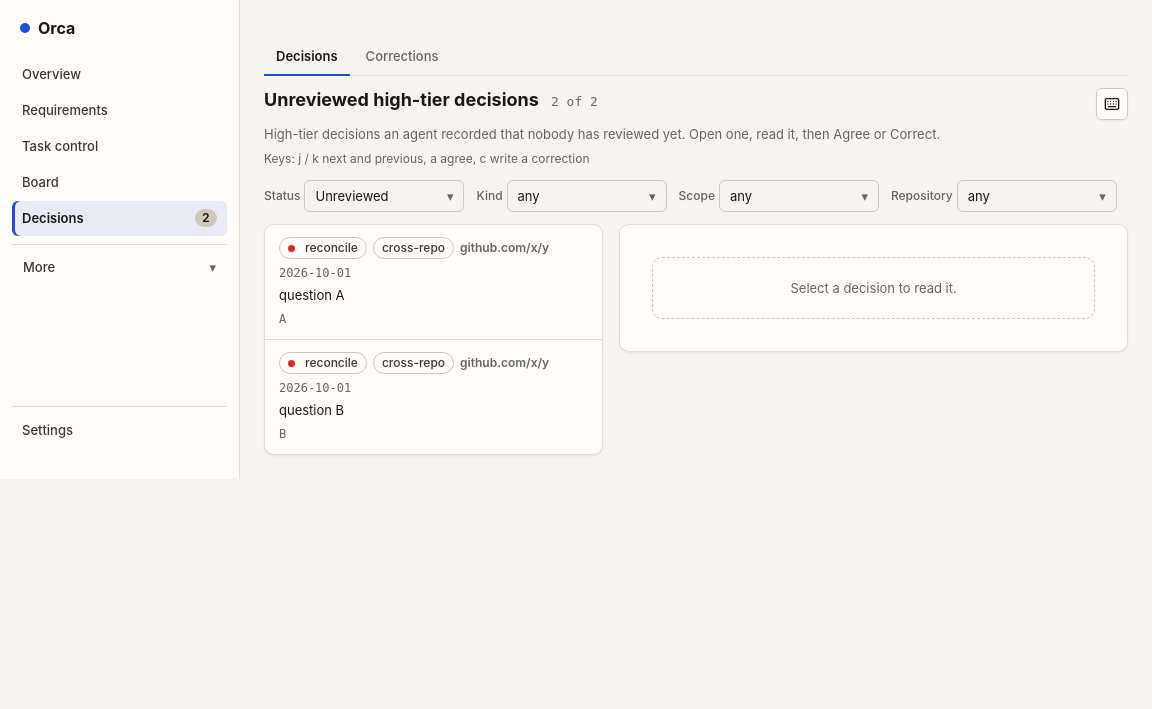
Test: the decision review loop › after a successful Agree, opens the next row once the reviewed one has left the list, and counts it
Step 1. Click the button "reconcile cross-repo github.com/x/y 2026-10-01 question A A" → (323, 248), box x1=265 y1=225 x2=602 y2=339
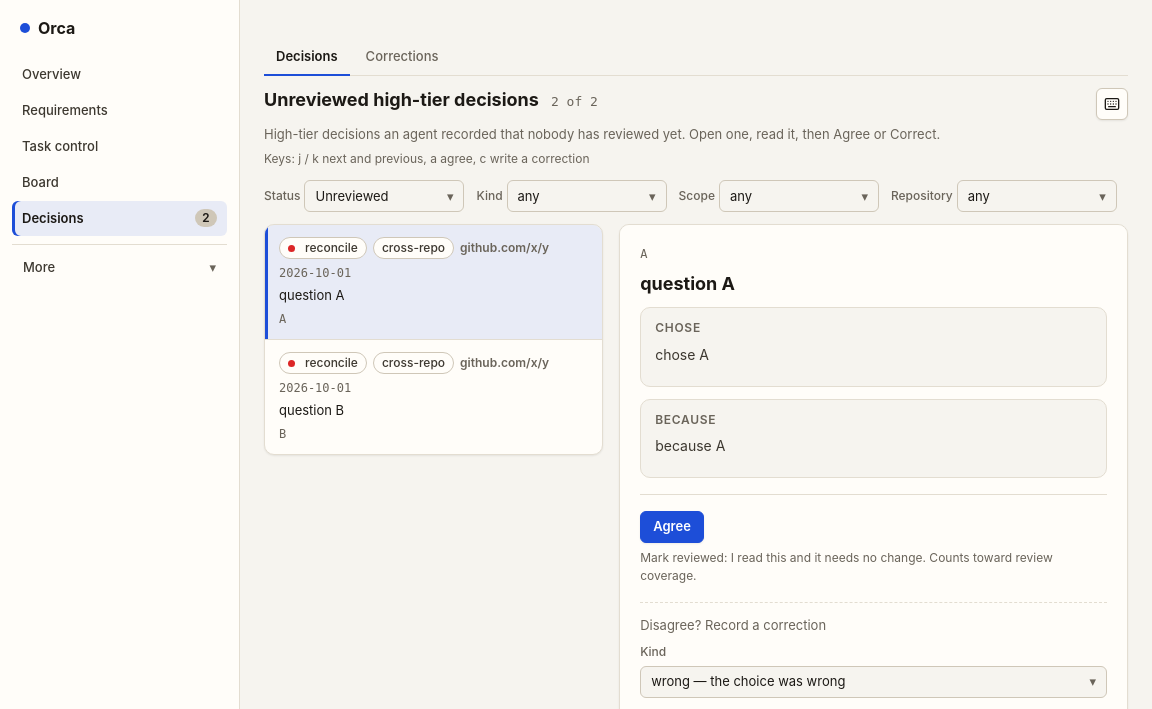
Check: the text "question A" is shown, box x1=279 y1=288 x2=345 y2=304
Step 2. Click the button "Agree" → (672, 527), box x1=640 y1=511 x2=704 y2=543
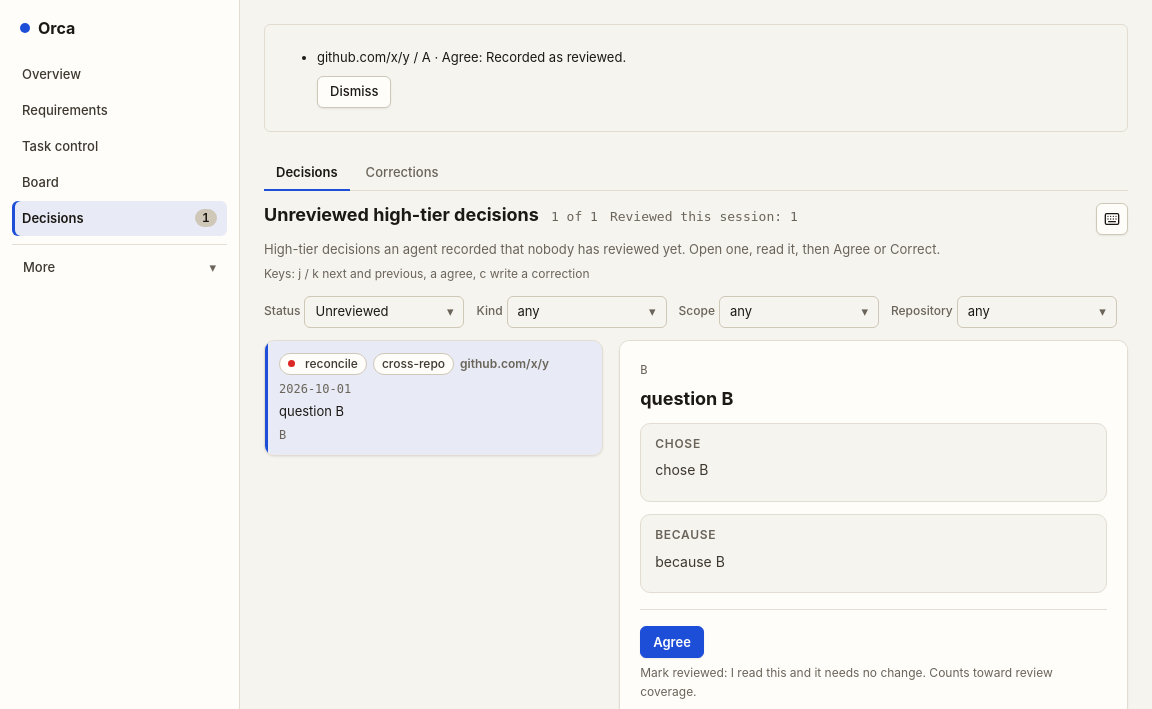
Check: the heading with test id "decision-question" reads "question B", box x1=640 y1=388 x2=734 y2=409
Check: the text with test id "reviewed-count" reads "Reviewed this session: 1", box x1=610 y1=209 x2=798 y2=224
